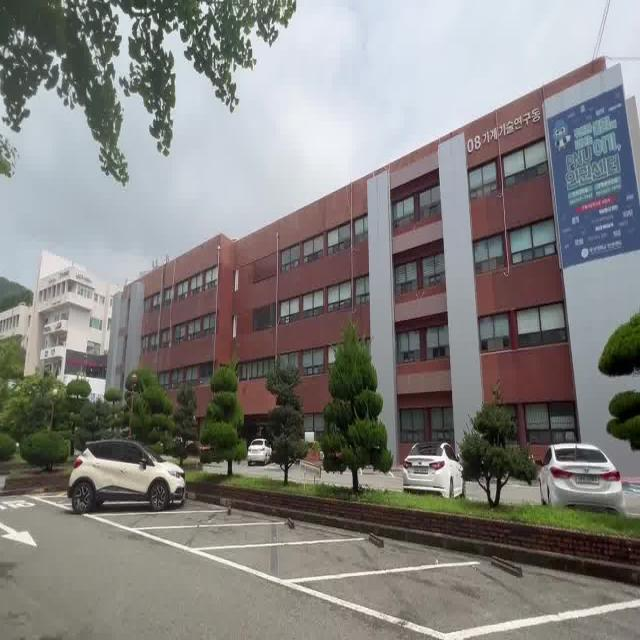building: (186, 112, 552, 354)
